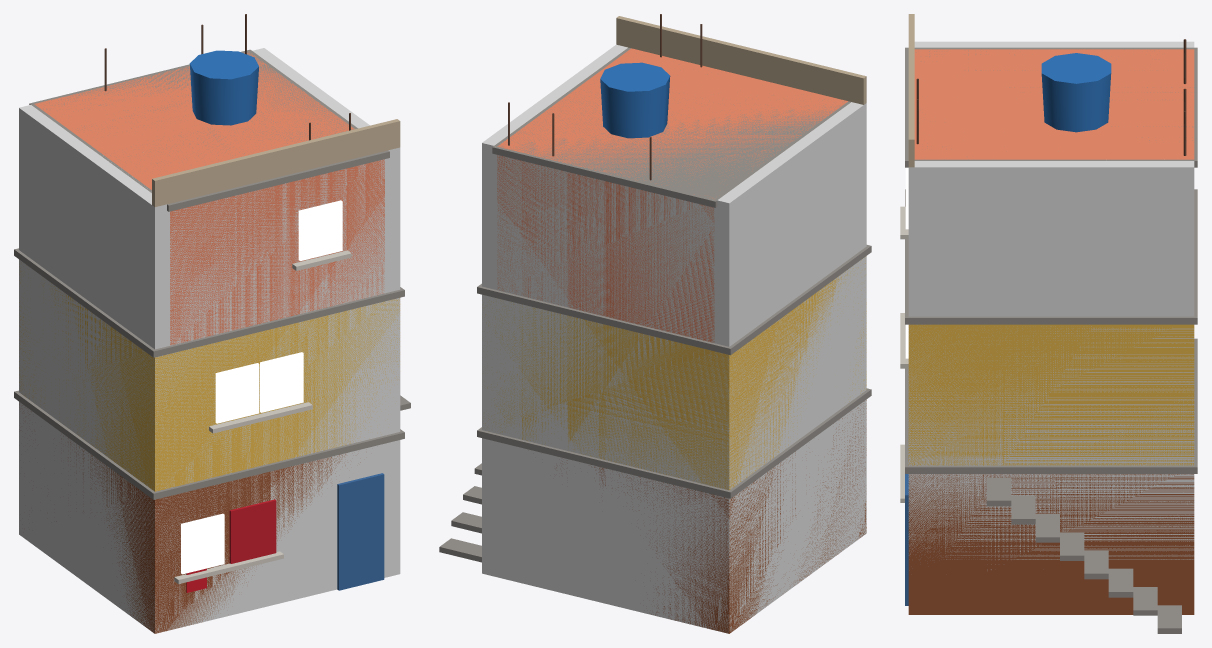
Rendered from casa_favela_7.glb.
The picture shows the model from 3 angles, left to right: view 1: azimuth 30°, elevation 25°; view 2: azimuth 150°, elevation 25°; view 3: azimuth 270°, elevation 25°; orthographic projection. The views are drawn at different scales.
Parts seen in each view (by area): view 1: casa_favela_7_Malla, COL_0; view 2: COL_0, casa_favela_7_Malla; view 3: casa_favela_7_Malla, COL_0.
Boxes of the visible parts, left/top/right/bottom form: casa_favela_7_Malla: left=14, top=14, right=410, bottom=633; COL_0: left=19, top=48, right=400, bottom=633; COL_0: left=482, top=44, right=866, bottom=633; casa_favela_7_Malla: left=439, top=14, right=871, bottom=633; casa_favela_7_Malla: left=900, top=14, right=1197, bottom=633; COL_0: left=908, top=41, right=1194, bottom=570.
Size of the model in its own units: 5.88 by 9 by 4.88.
